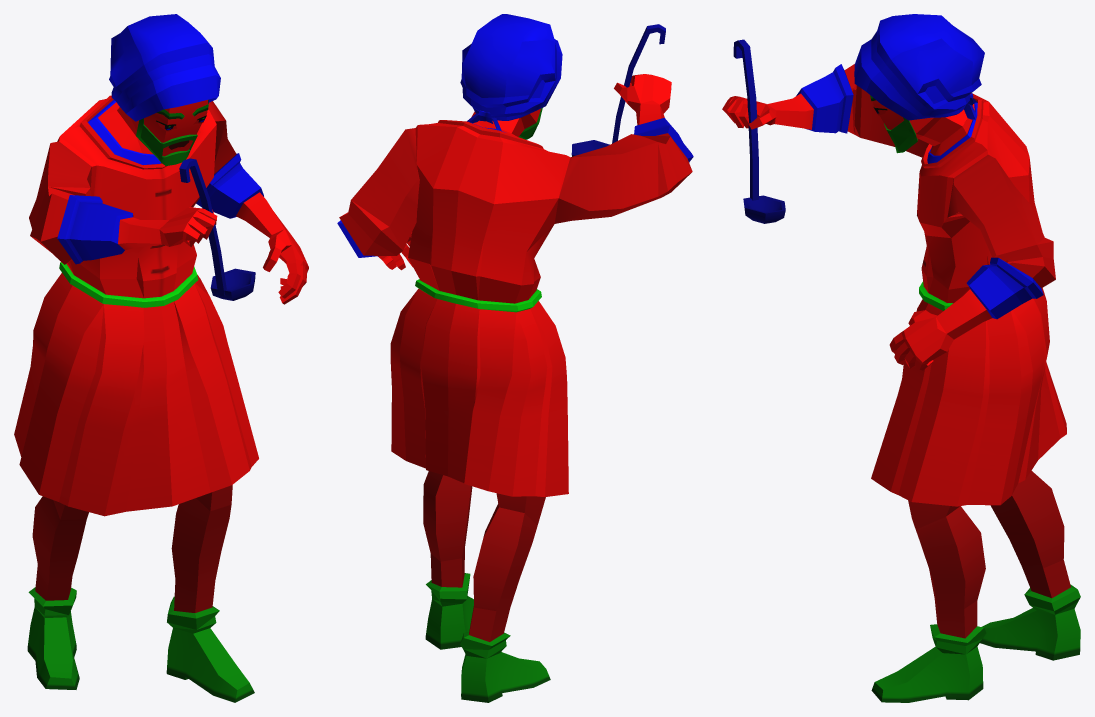
File: M_Cook_prePosed.fbx
The picture shows the model from 3 angles, left to right: view 1: azimuth 30°, elevation 25°; view 2: azimuth 150°, elevation 25°; view 3: azimuth 270°, elevation 25°; orthographic projection. The views are drawn at different scales.
Parts seen in each view (by area): view 1: M_Cook_prePosed; view 2: M_Cook_prePosed; view 3: M_Cook_prePosed.
Part boxes in pixels (box(x1,y1,x2,y2)): M_Cook_prePosed: box(14, 14, 308, 702); M_Cook_prePosed: box(337, 14, 693, 702); M_Cook_prePosed: box(722, 14, 1080, 702).
Bounding box in the file's own units: 95.73 × 199 × 100.
